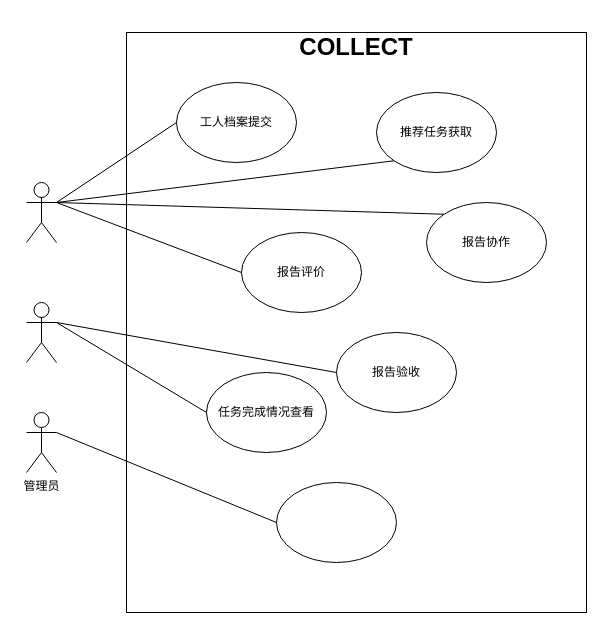
The diagram is 604 pixels wide and 630 high, and some of its shapes have lost their labels. The shapes that lost their labels are listed below. From the top down, each one's centre as x and y in pixels, then its label:
(x=41, y=212): 众包工人
(x=41, y=332): 发包方
(x=336, y=522): 推荐指标调整
